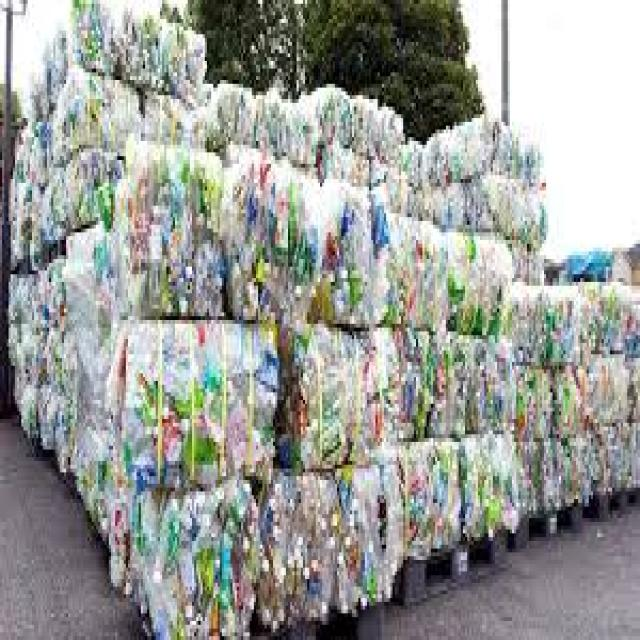heap: (142, 165, 357, 294)
